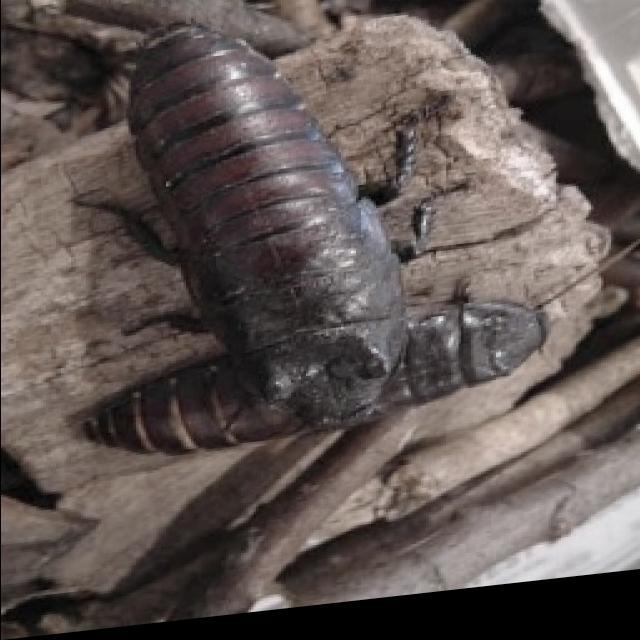cockroach: (124, 19, 411, 429)
